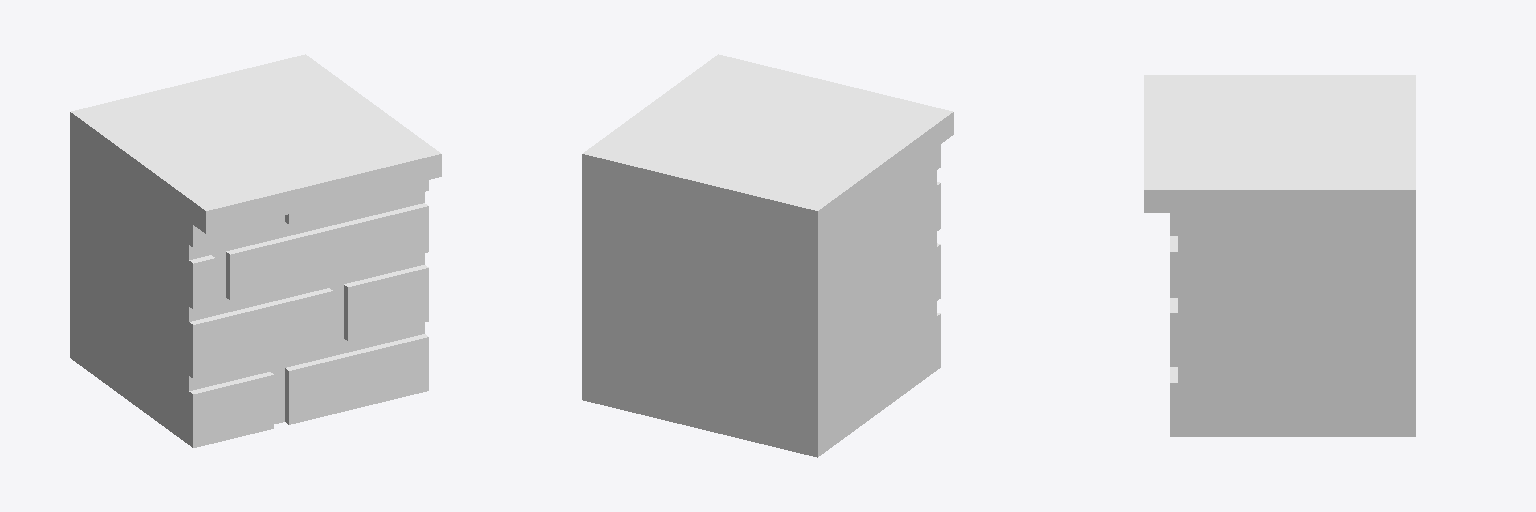
Rendered from stone_bricks-0.obj.
3 views of the same model, side by side, from view 1: azimuth 30°, elevation 25°; view 2: azimuth 150°, elevation 25°; view 3: azimuth 270°, elevation 25° (orthographic).
Visible parts, largest first — view 1: object 1; view 2: object 1; view 3: object 1.
Boxes of the visible parts, x1=… form: object 1: x1=70, y1=54, x2=441, y2=447; object 1: x1=582, y1=54, x2=953, y2=457; object 1: x1=1144, y1=75, x2=1415, y2=436.
Size of the model in its own units: 3.2 by 3.2 by 3.2.